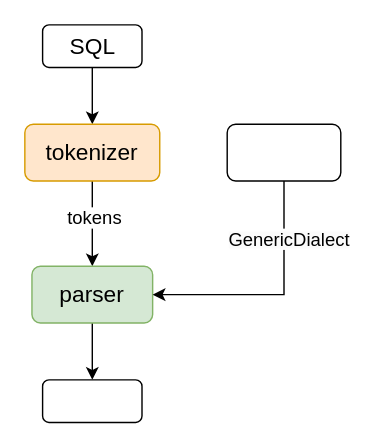
Some shapes in this 373 by 447 pixel diagram are drawn without their labels. Here are the shapes that lost their labels. From the top down, the centre of each, then its label:
At pixel 283 152: "dialect".
At pixel 91 400: "AST".
